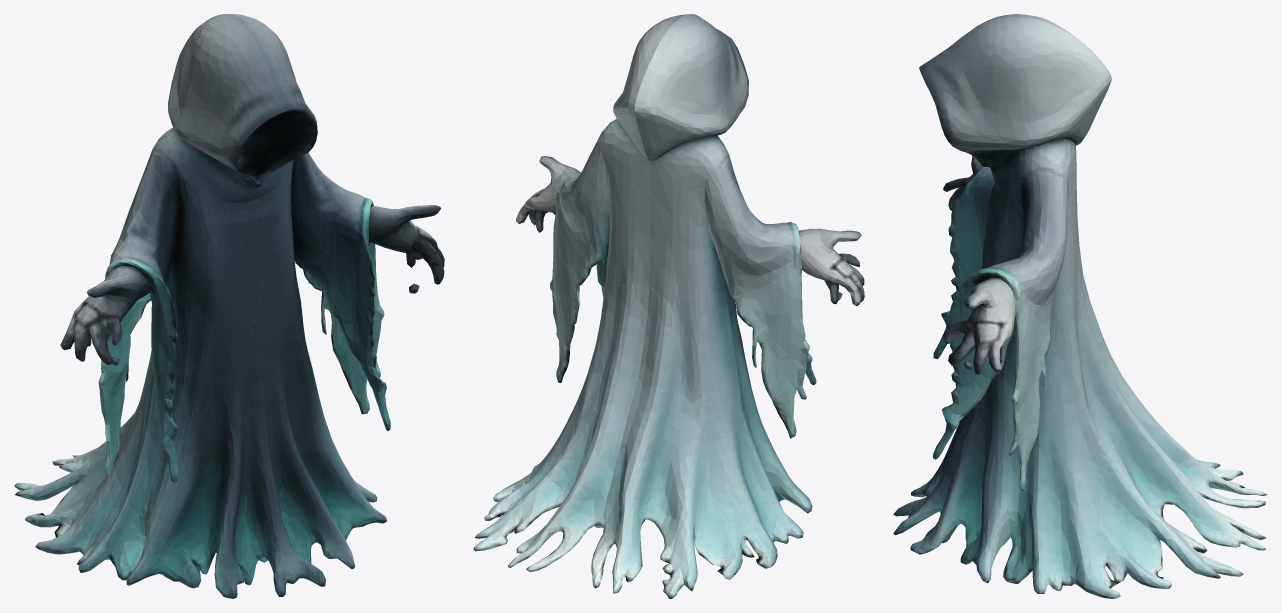
The model's file is patrolghost.glb.
The picture shows the model from 3 angles, left to right: view 1: azimuth 30°, elevation 25°; view 2: azimuth 150°, elevation 25°; view 3: azimuth 270°, elevation 25°; orthographic projection. The views are drawn at different scales.
Visible parts, largest first — view 1: geometry_0; view 2: geometry_0; view 3: geometry_0.
Part boxes in pixels (<box>): geometry_0: <box>14,14,444,598</box>; geometry_0: <box>473,14,864,598</box>; geometry_0: <box>893,14,1267,598</box>.
Bounding box in the file's own units: 0.7468 × 1 × 0.6628.
1 material, 1 textured.
